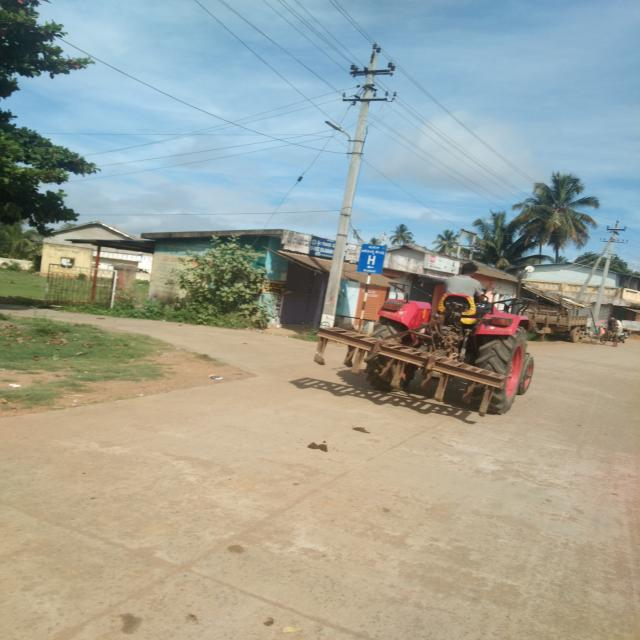tractor: (338, 253, 554, 425), (525, 288, 599, 339)
